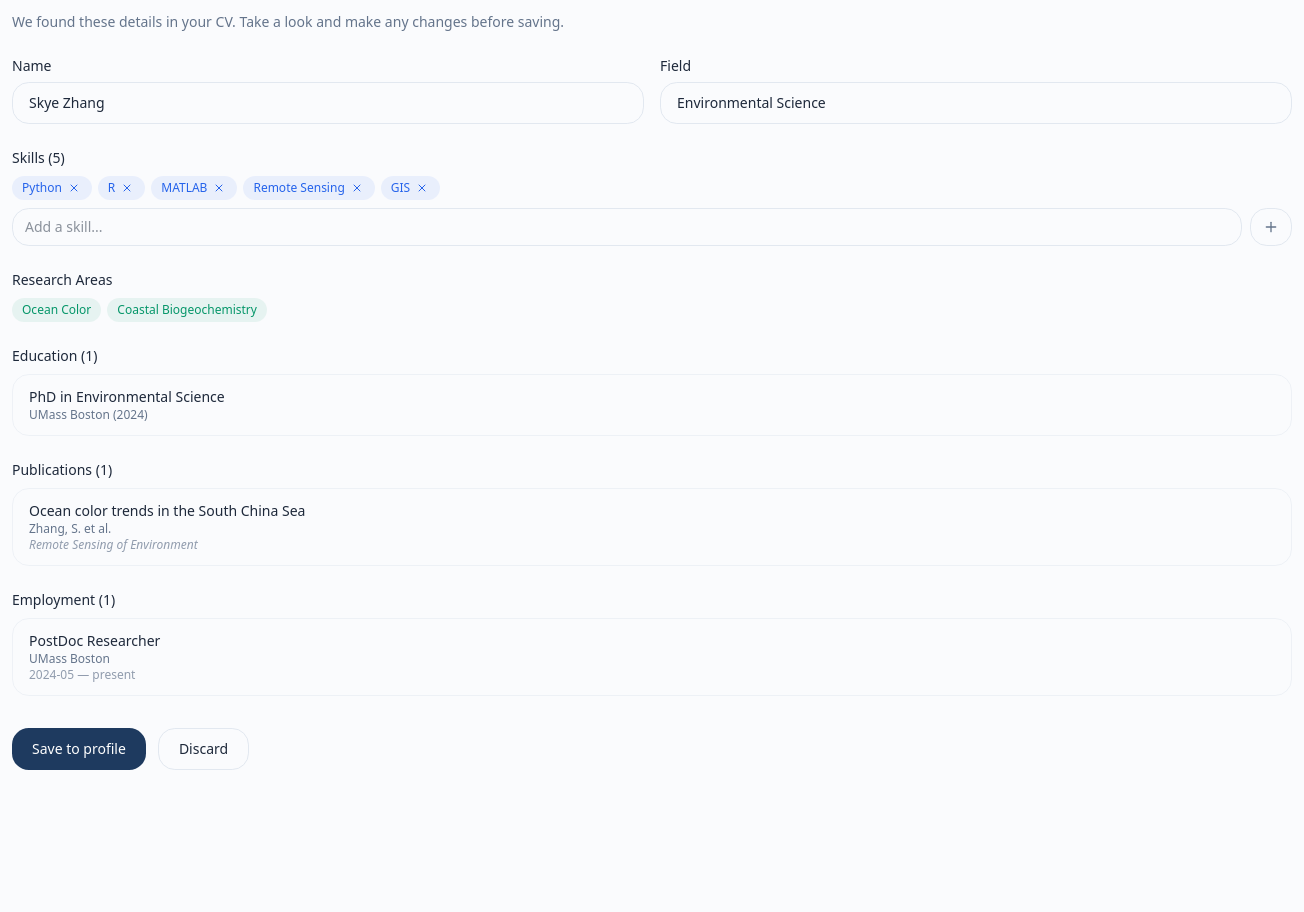
CvReviewForm › allows removing a skill
This screenshot has width=1304, height=912.
Click the button named "remove matlab".
click(219, 188)  # box [211,180,227,196]
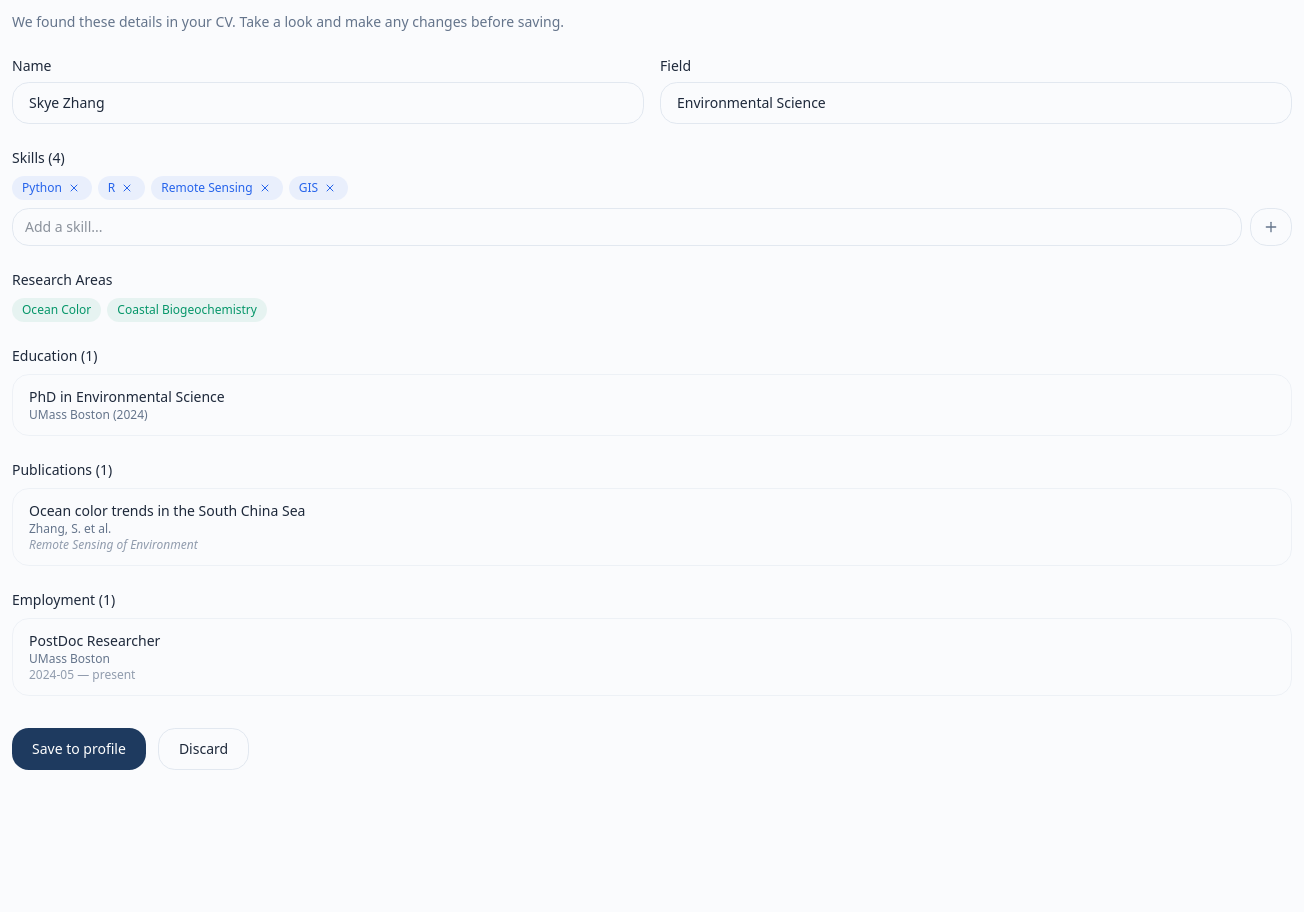
Expected: the text "MATLAB" is gone
